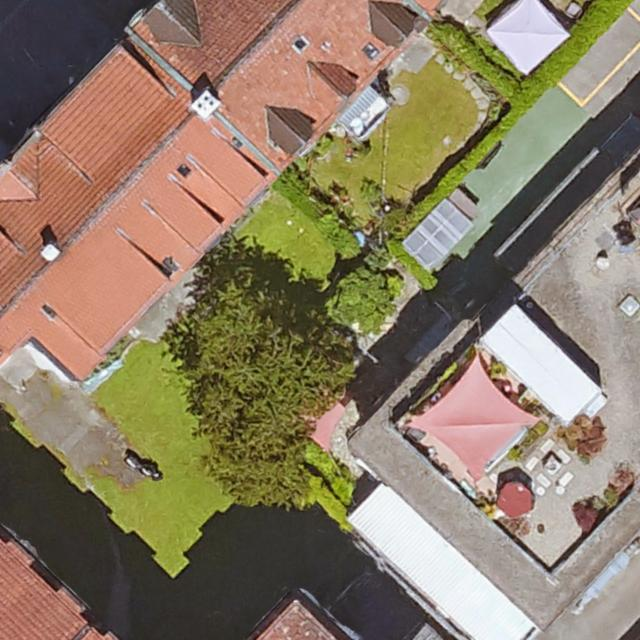tree: (183, 274, 346, 506), (329, 268, 398, 329)
